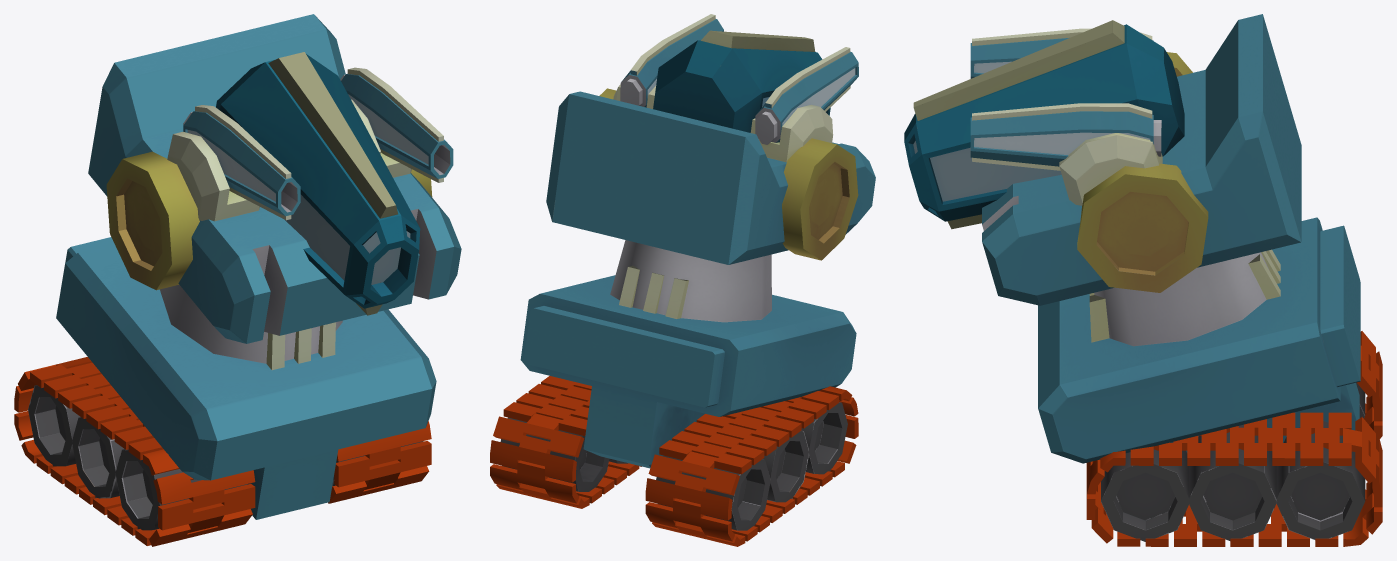
Rendered from player_move_1_upgrade7.obj.
3 renders of one model, left to right at view 1: azimuth 30°, elevation 25°; view 2: azimuth 150°, elevation 25°; view 3: azimuth 270°, elevation 25°, orthographic. The views are drawn at different scales.
Parts seen in each view (by area): view 1: Object004, Box038, Object012, Object011, Box042; view 2: Object004, Box038, Box042, Object011, Object012; view 3: Object004, Object011, Box042, Object012, Box038.
Part boxes in pixels (bbox=[...]): Object004: bbox=[56, 14, 461, 519]; Box038: bbox=[14, 357, 255, 546]; Object012: bbox=[183, 67, 453, 220]; Object011: bbox=[28, 385, 423, 530]; Box042: bbox=[328, 421, 431, 503]; Object004: bbox=[520, 30, 875, 468]; Box038: bbox=[645, 386, 858, 546]; Box042: bbox=[490, 376, 641, 508]; Object011: bbox=[500, 402, 847, 530]; Object012: bbox=[620, 14, 858, 144]; Object004: bbox=[904, 14, 1360, 463]; Object011: bbox=[1101, 382, 1365, 541]; Box042: bbox=[1086, 412, 1382, 546]; Object012: bbox=[970, 28, 1161, 170]; Box038: bbox=[1357, 331, 1382, 438].
Bounding box in the file's own units: 110 × 179 × 169.
Materials: 4 (2 with a texture image).
